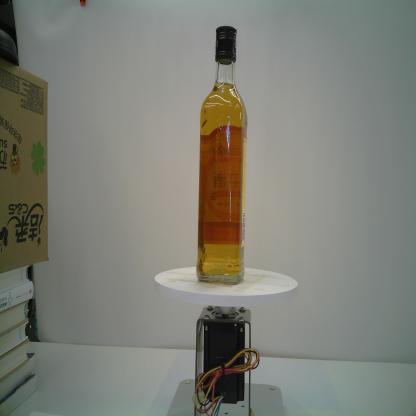Seasoner: (195, 23, 250, 287)
